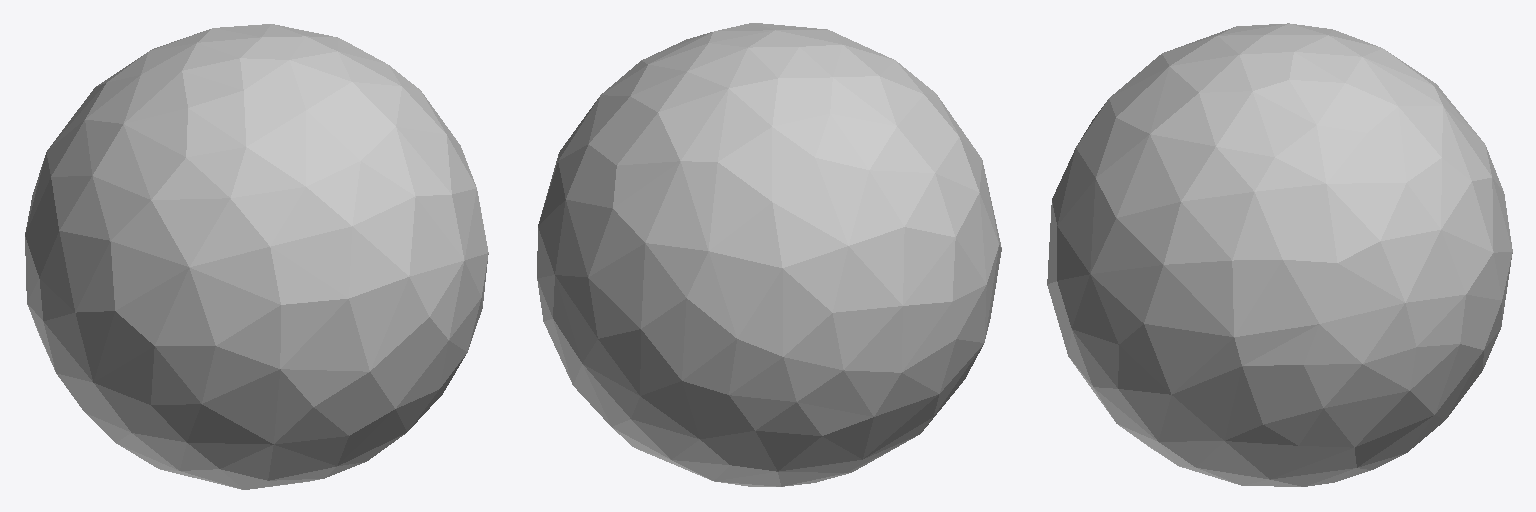
File: sol.obj
The picture shows the model from 3 angles: view 1: azimuth 30°, elevation 25°; view 2: azimuth 150°, elevation 25°; view 3: azimuth 270°, elevation 25°; orthographic projection.
Parts seen in each view (by area): view 1: Moon_Sphere.001; view 2: Moon_Sphere.001; view 3: Moon_Sphere.001.
Boxes of the visible parts, x1,y1,x2,y2 form: Moon_Sphere.001: [25, 24, 488, 489]; Moon_Sphere.001: [537, 23, 1001, 486]; Moon_Sphere.001: [1047, 23, 1512, 486].
Bounding box in the file's own units: 1.99 × 2 × 2.01.